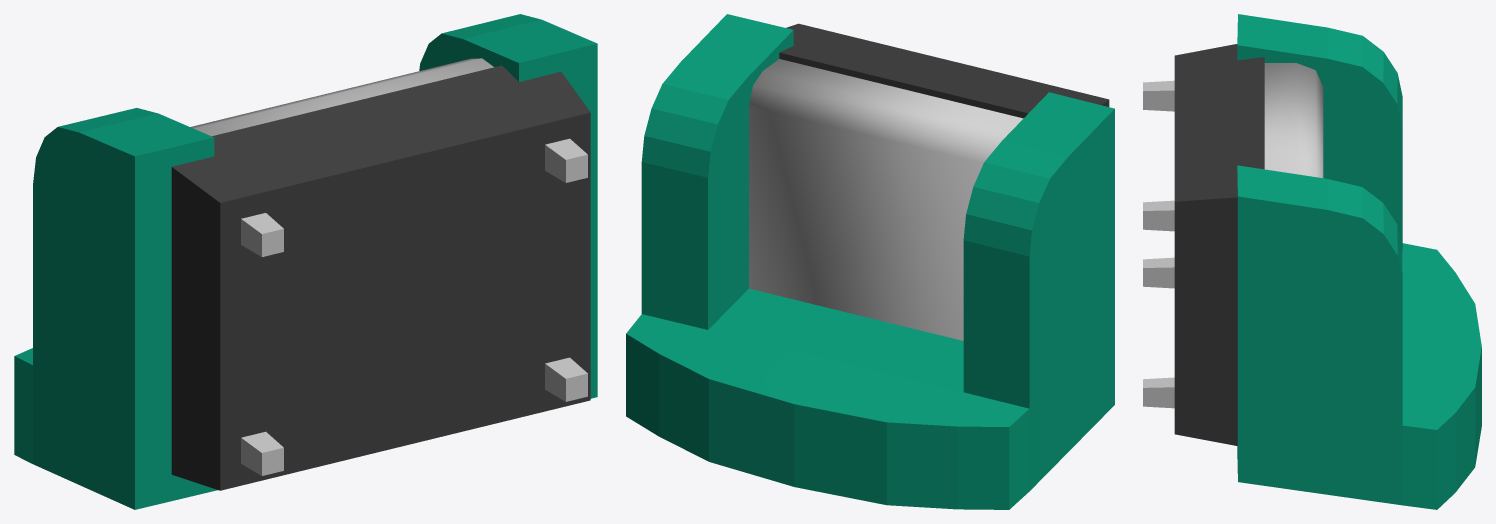
File: Sofa_1_Alt.glb
3 views of the same model, side by side, from view 1: azimuth 30°, elevation 25°; view 2: azimuth 150°, elevation 25°; view 3: azimuth 270°, elevation 25° (orthographic). The views are drawn at different scales.
Parts seen in each view (by area): view 1: Sofa 1 Alt; view 2: Sofa 1 Alt; view 3: Sofa 1 Alt.
Boxes of the visible parts, x1=… form: Sofa 1 Alt: x1=14, y1=14, x2=597, y2=509; Sofa 1 Alt: x1=626, y1=14, x2=1114, y2=509; Sofa 1 Alt: x1=1143, y1=14, x2=1481, y2=509.
Bounding box in the file's own units: 1.15 × 0.9422 × 0.9005.
1 material, 1 textured.
